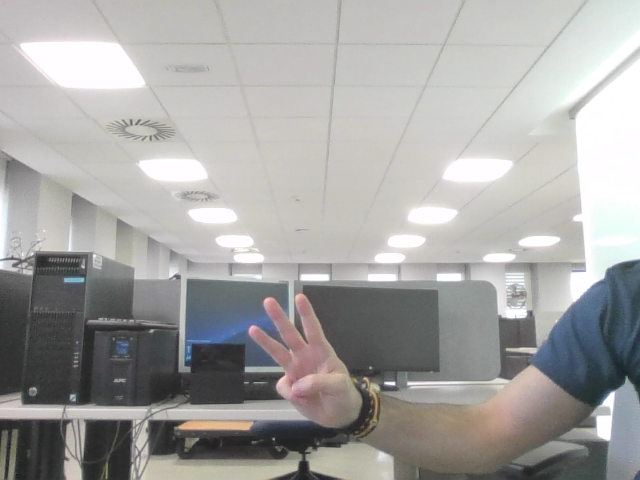3Dedos: (258, 304, 341, 396)
